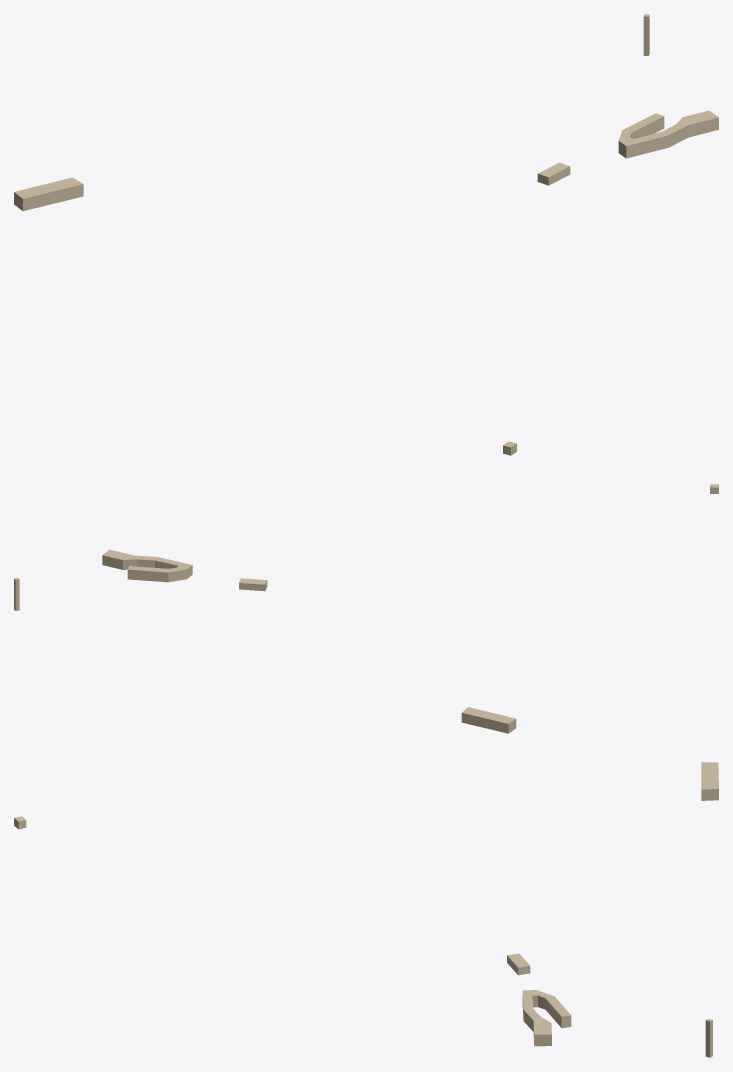
File: -5_5-estimated-coarse.glb
The picture shows the model from 3 angles, top to bottom: view 1: azimuth 30°, elevation 25°; view 2: azimuth 150°, elevation 25°; view 3: azimuth 270°, elevation 25°; orthographic projection. The views are drawn at different scales.
Size of the model in its own units: 957 by 57 by 1004.
